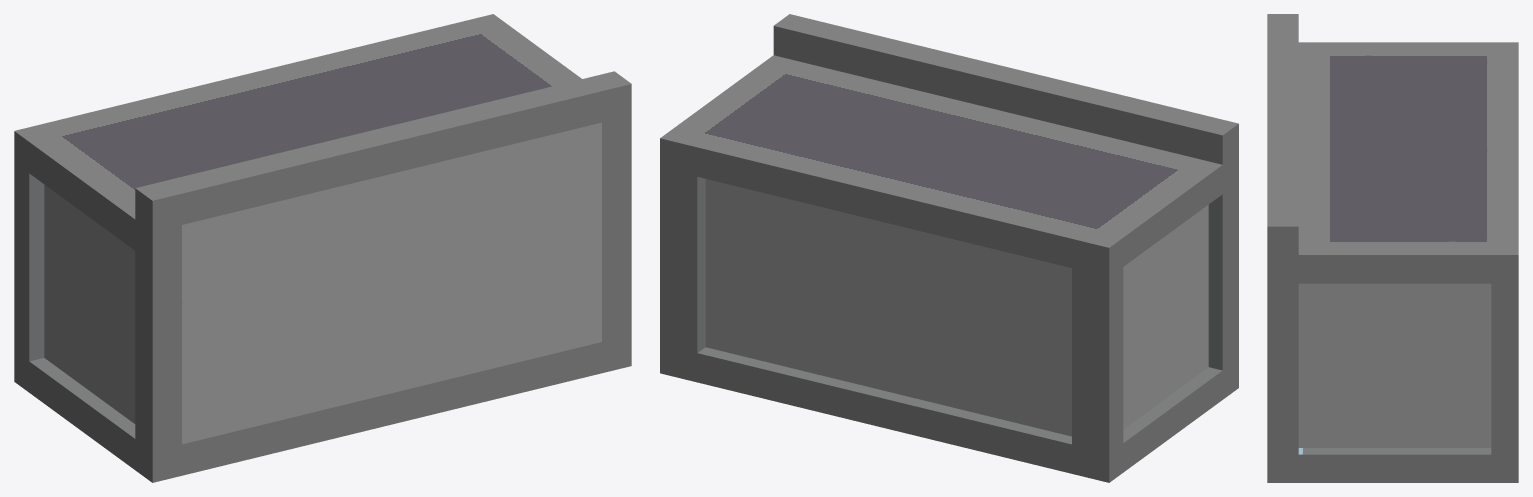
The model's file is generic_station.gltf.
3 views of the same model, side by side, from view 1: azimuth 30°, elevation 25°; view 2: azimuth 150°, elevation 25°; view 3: azimuth 270°, elevation 25° (orthographic). The views are drawn at different scales.
Visible parts, largest first — view 1: cuboid; view 2: cuboid; view 3: cuboid.
Part boxes in pixels (x1,y1,x2,y2): cuboid: (14,14,631,482); cuboid: (660,14,1238,482); cuboid: (1267,14,1518,482).
Size of the model in its own units: 1 by 0.5625 by 0.5.
Materials: 1 (1 with a texture image).
